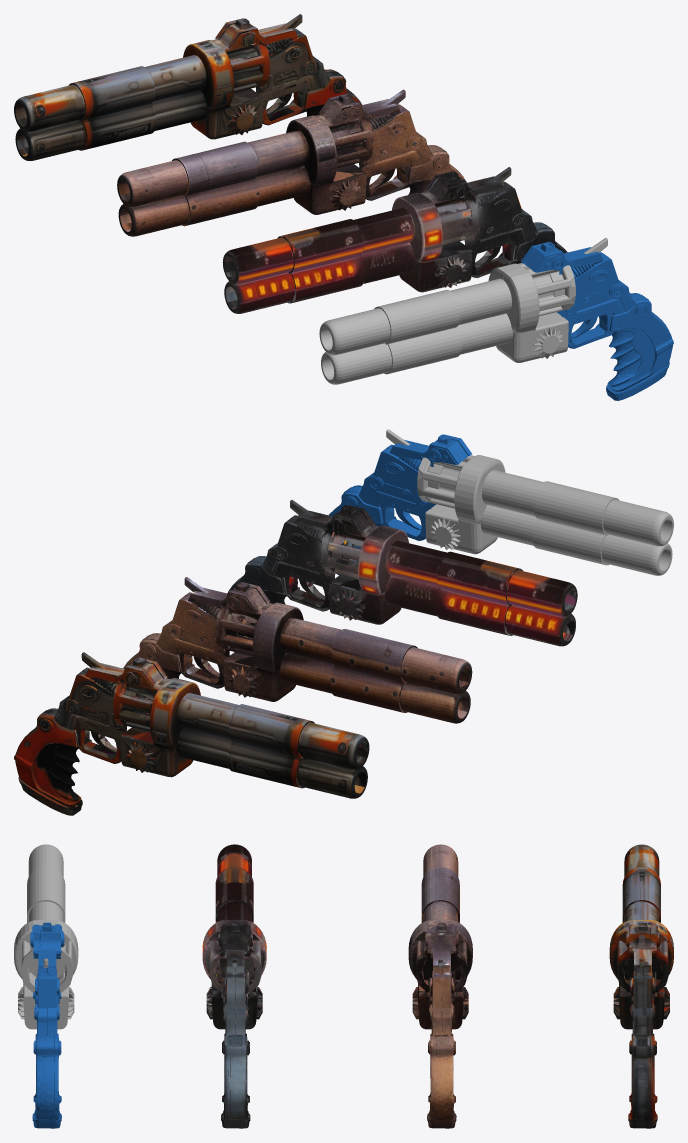
Rendered from GunMult.glb.
The picture shows the model from 3 angles, top to bottom: view 1: azimuth 30°, elevation 25°; view 2: azimuth 150°, elevation 25°; view 3: azimuth 270°, elevation 25°; orthographic projection. The views are drawn at different scales.
Parts seen in each view (by area): view 1: meshGun, meshGun.002, meshGun.001, meshGun.003; view 2: meshGun.001, meshGun.003, meshGun.002, meshGun; view 3: meshGun.001, meshGun.002, meshGun, meshGun.003.
Boxes of the visible parts, x1,y1,x2,y2 form: meshGun: (319,238,673,400); meshGun.002: (117,89,465,236); meshGun.001: (14,14,362,160); meshGun.003: (222,167,567,313); meshGun.001: (14,652,369,815); meshGun.003: (228,500,577,646); meshGun.002: (123,577,472,723); meshGun: (329,429,673,575); meshGun.001: (609,844,673,1128); meshGun.002: (408,844,472,1128); meshGun: (14,844,78,1128); meshGun.003: (202,844,266,1128).
Bounding box in the file's own units: 2.38 × 1.12 × 4.08.
5 materials, 3 textured.
